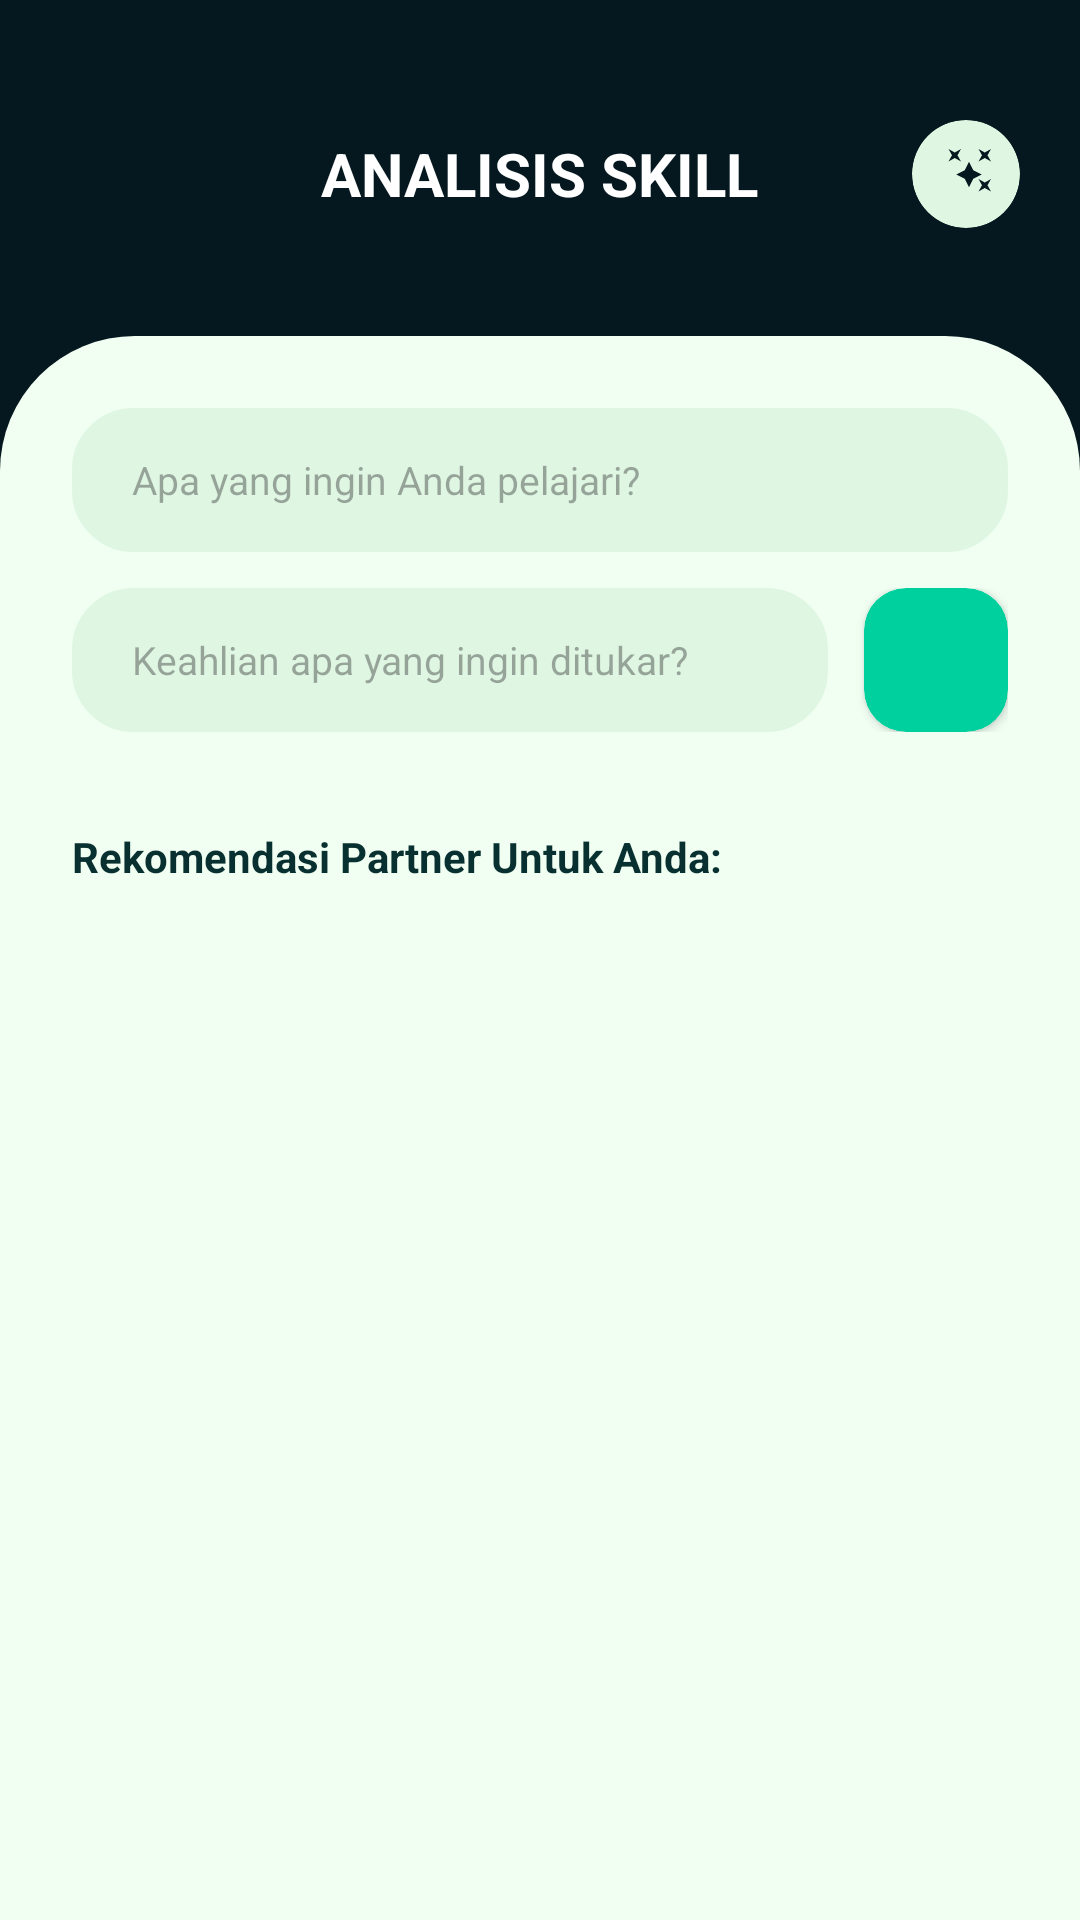

Point at icon controls on the screen. Image size 1080 × 1920, points as (x=x, y=y).
ai stars: (x=969, y=170)
